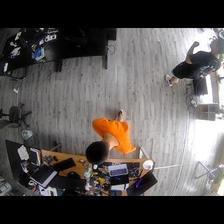normal: (84, 109, 137, 165), (165, 38, 224, 86)
